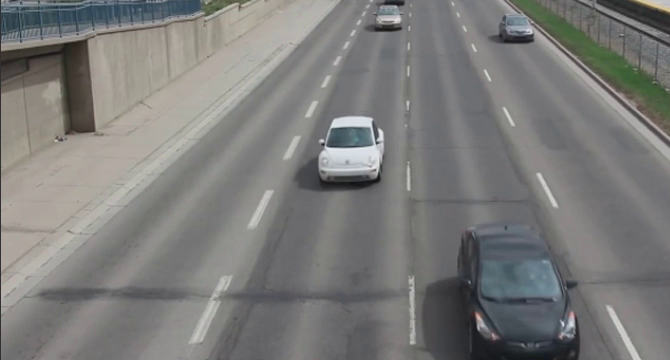car: (451, 222, 583, 360), (315, 114, 388, 188), (371, 3, 408, 33), (499, 13, 536, 43)
